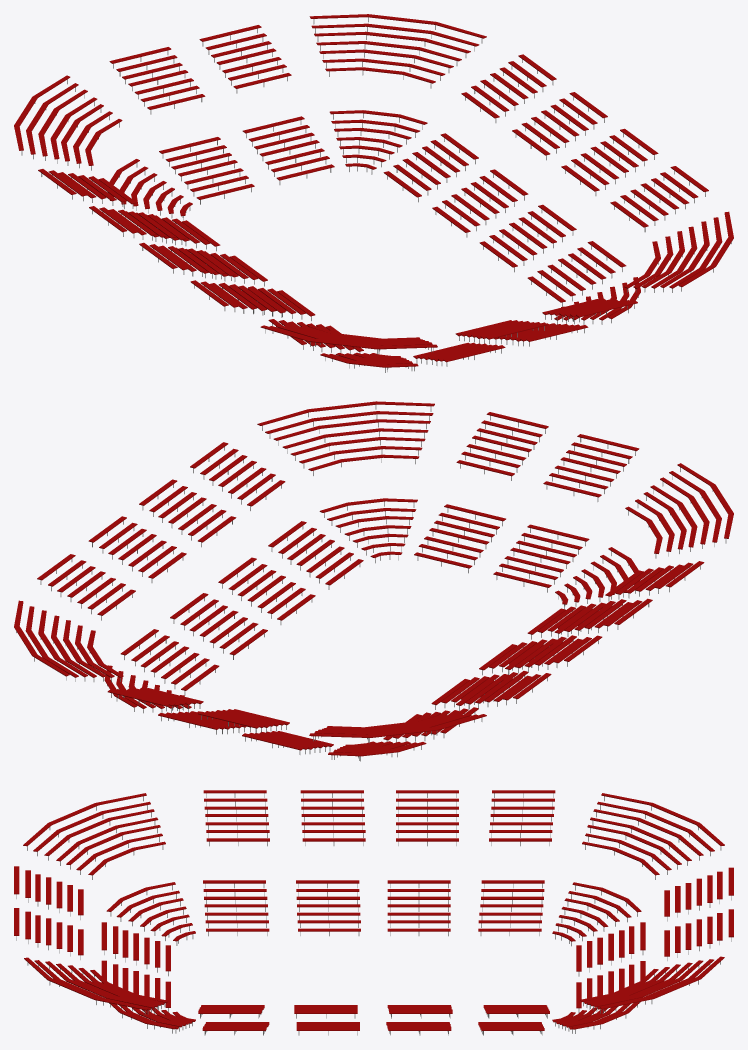
File: Seats.FBX
3 renders of one model, top to bottom at view 1: azimuth 30°, elevation 25°; view 2: azimuth 150°, elevation 25°; view 3: azimuth 270°, elevation 25°, orthographic. The views are drawn at different scales.
Parts seen in each view (by area): view 1: Seats; view 2: Seats; view 3: Seats.
Part boxes in pixels (bbox=[...]): Seats: bbox=[14, 14, 733, 372]; Seats: bbox=[14, 401, 733, 761]; Seats: bbox=[14, 790, 733, 1035].
Bounding box in the file's own units: 73.82 × 12.66 × 101.
